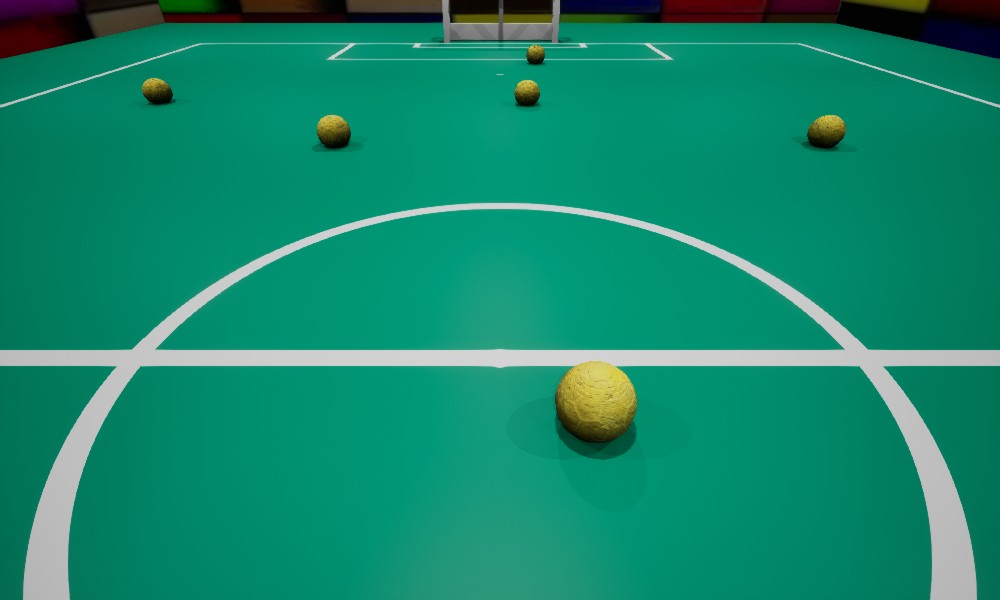b: (555, 361, 636, 442), (807, 115, 845, 146), (317, 115, 350, 146), (142, 78, 172, 103), (514, 80, 539, 105), (526, 45, 544, 63)
g: (442, 0, 559, 42)
